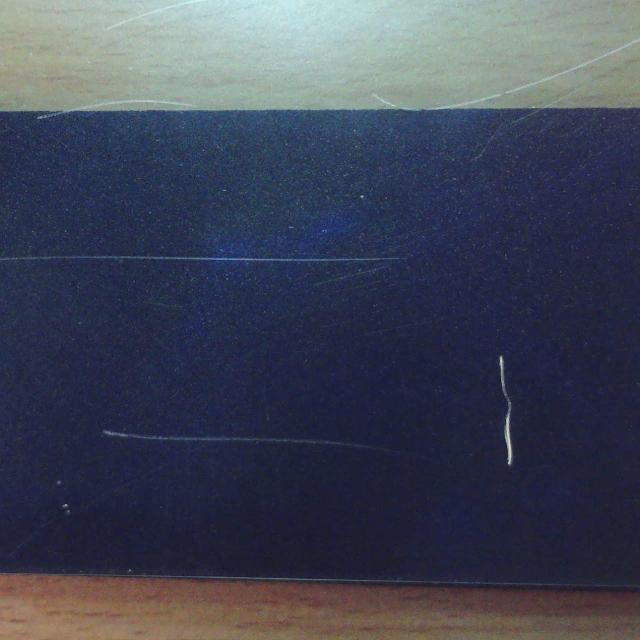defect: (98, 425, 437, 467), (2, 250, 412, 269), (493, 355, 519, 469), (34, 111, 66, 122)
